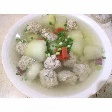dongguawanzi: (11, 15, 105, 91)
